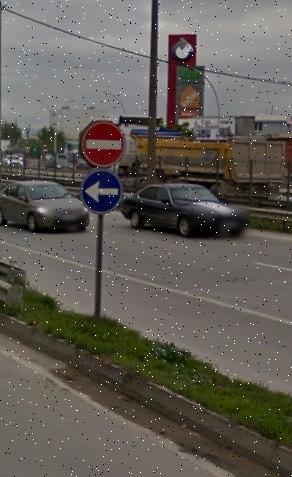turnleft: (79, 169, 124, 214)
